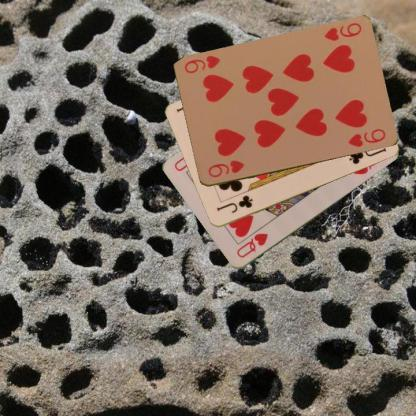9h: (321, 20, 363, 43), (204, 158, 245, 179)
Jc: (213, 191, 254, 215)
Qh: (234, 230, 269, 260)
